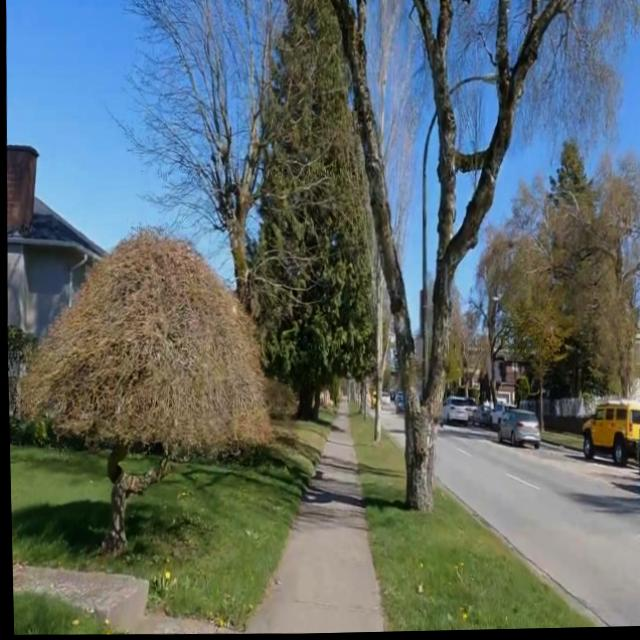Automobile: (580, 402, 640, 467), (496, 410, 538, 449), (439, 397, 472, 426), (471, 403, 490, 428), (489, 404, 505, 431), (637, 436, 640, 488)
Road: (434, 427, 640, 630), (380, 410, 401, 447)
Sidewalk: (242, 402, 381, 634)
